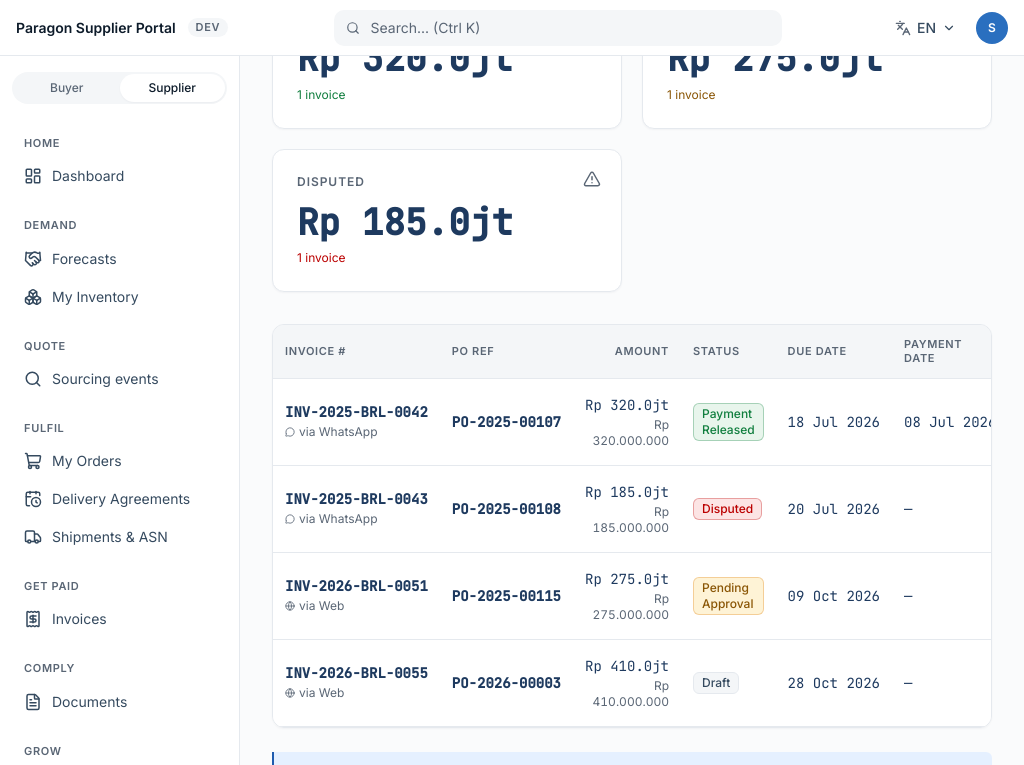
Test: S2b · SupplierInvoices — the supplier side, where the projection costs the most › an invoice in Payment Released names THE BANK to the supplier too
The width and height of the screenshot is (1024, 765).
(page scrolled)
Click the text "INV-2025-BRL-0042".
click(356, 412)  # box top-left (285, 402), bottom-right (428, 422)
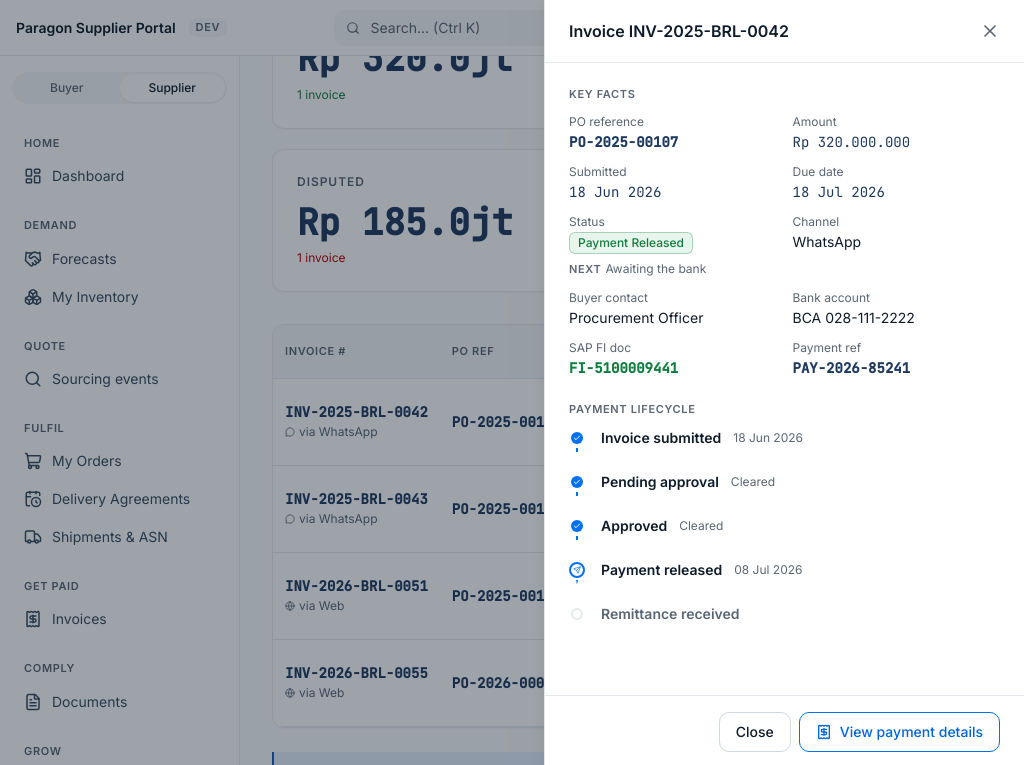
Expected: the element with test id "next-act-supplier-invoice" shows "Awaiting the bank", top-left (605, 261), bottom-right (706, 276)
